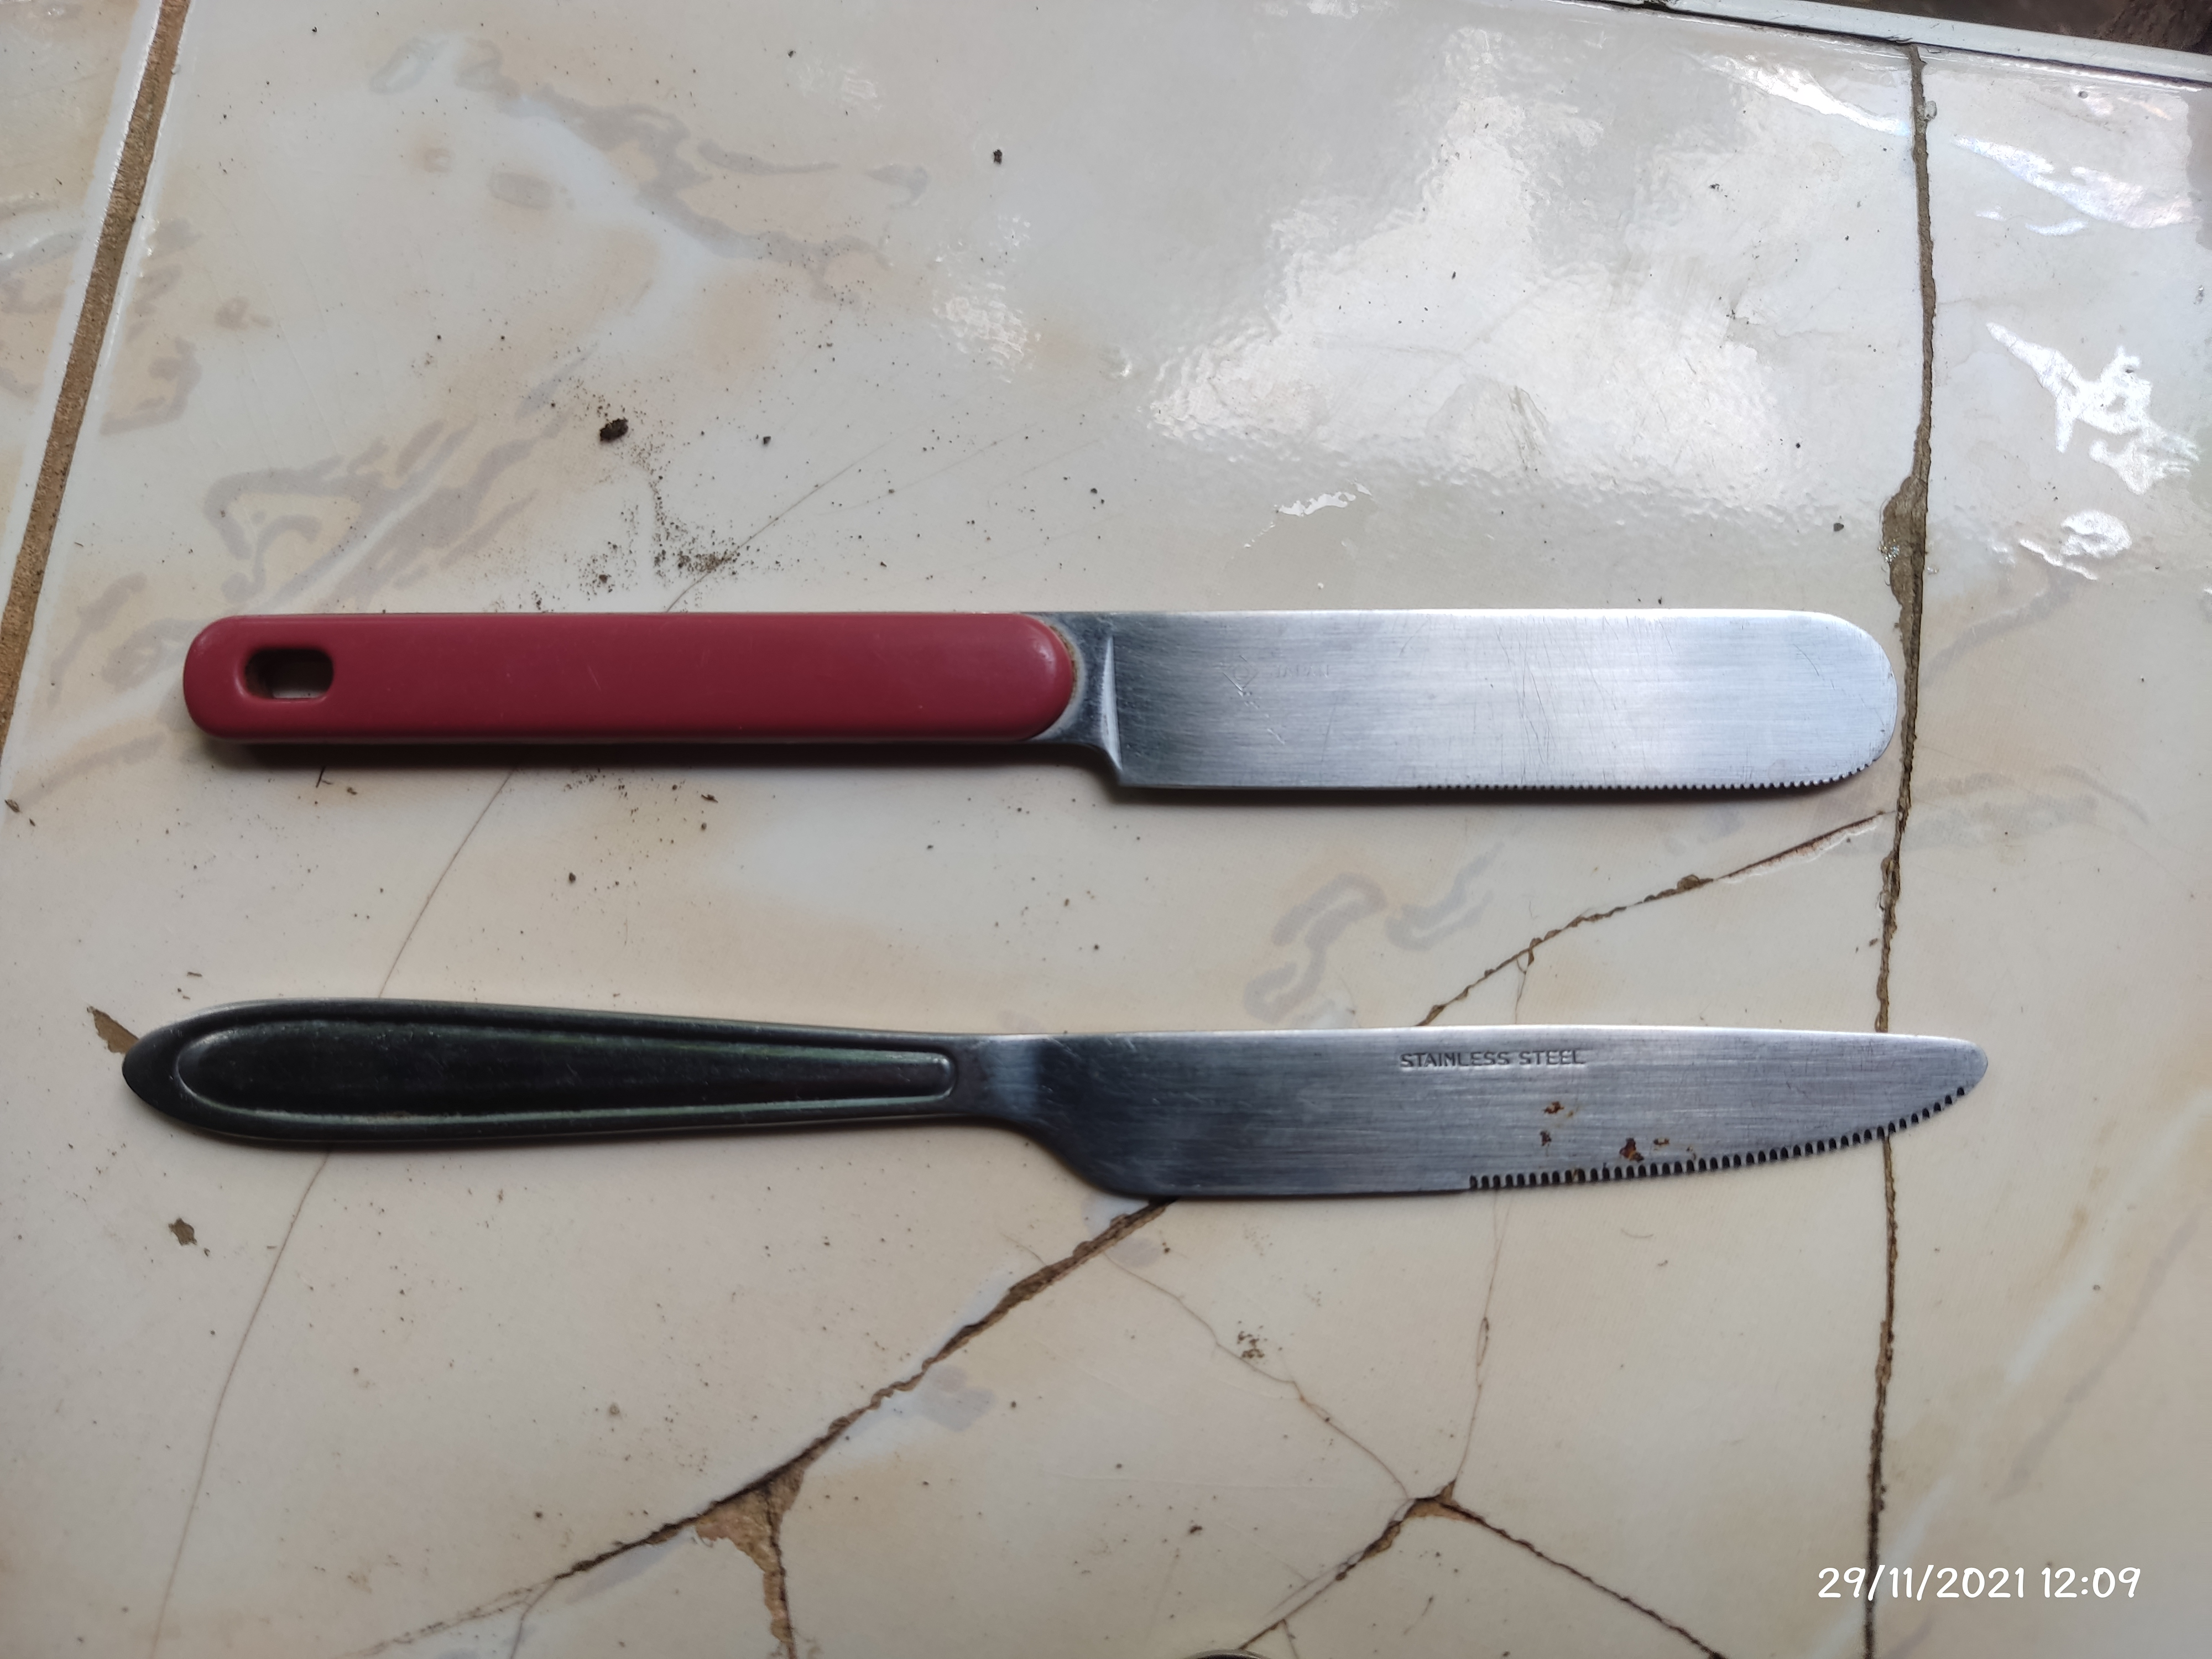knife: (120, 985, 1986, 1202)
